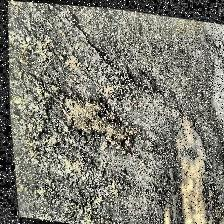pothole: (53, 82, 141, 160)
